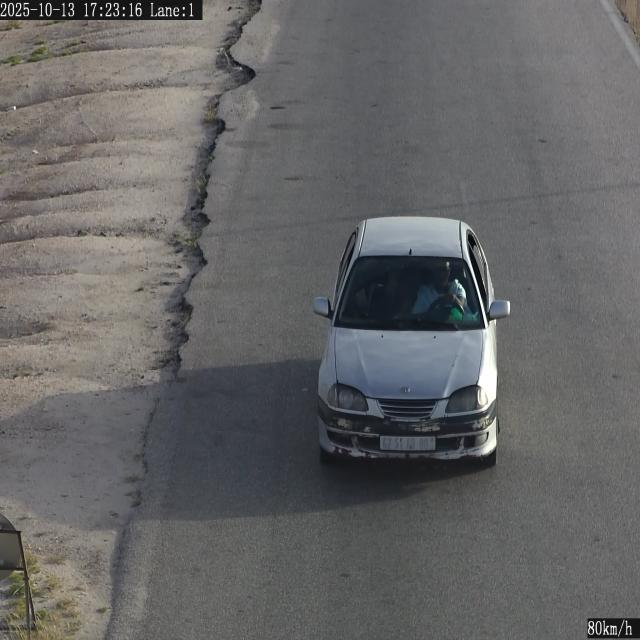BUS: (380, 436, 435, 451)
